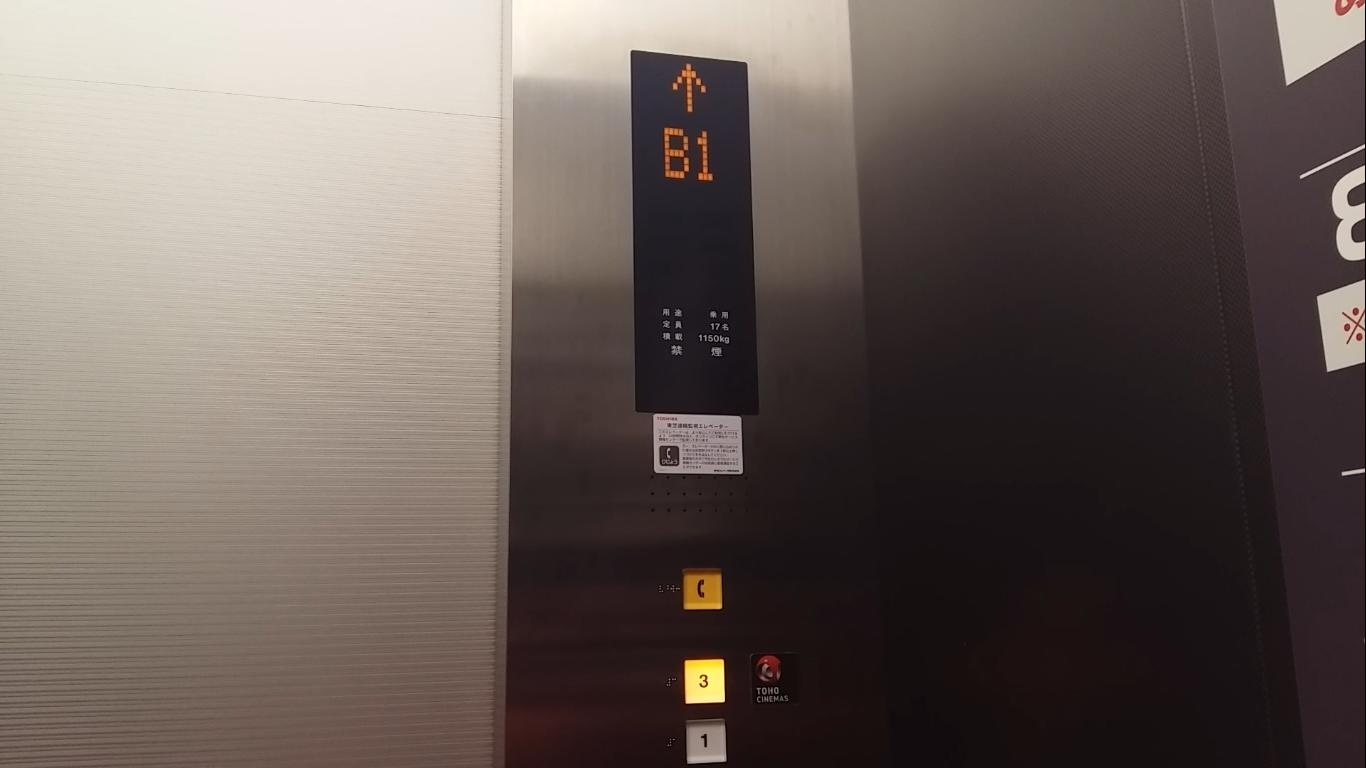1: (681, 716, 731, 768)
3: (679, 654, 729, 707)
call: (677, 562, 727, 615)
led: (625, 43, 764, 424)
unknown: (749, 651, 802, 711)
